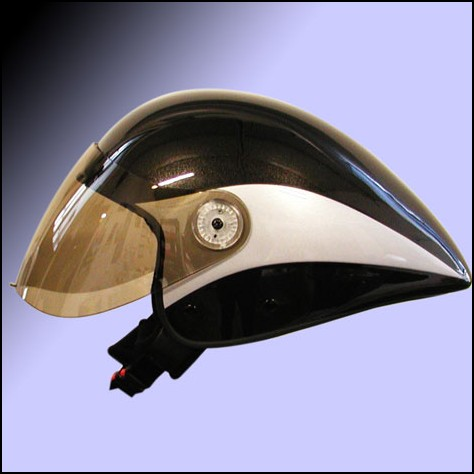helmet: (54, 107, 452, 322)
